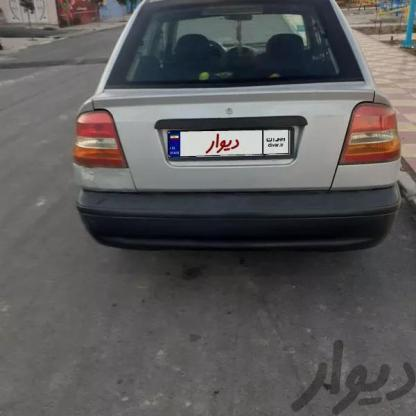Car: (69, 0, 402, 263)
